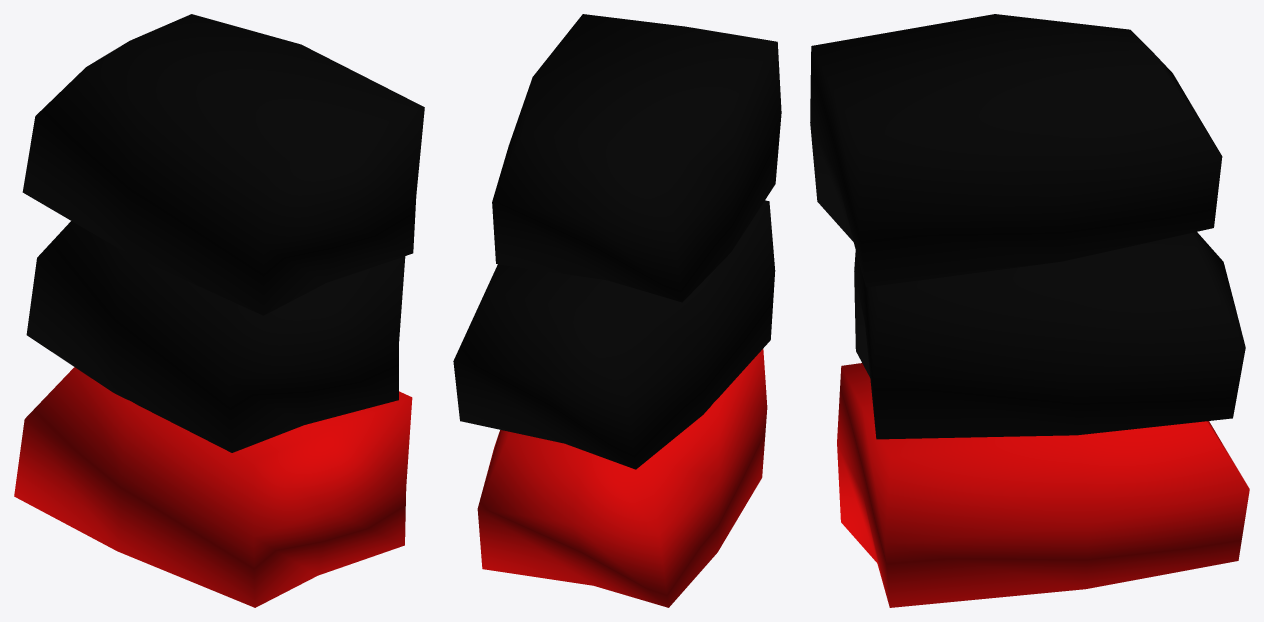
File: rubber1.fbx
3 views of the same model, side by side, from view 1: azimuth 30°, elevation 25°; view 2: azimuth 150°, elevation 25°; view 3: azimuth 270°, elevation 25° (orthographic). The views are drawn at different scales.
Visible parts, largest first — view 1: pCube40; view 2: pCube40; view 3: pCube40.
Part boxes in pixels (box(x1,y1,x2,y2)): pCube40: box(14, 14, 424, 607); pCube40: box(453, 14, 781, 607); pCube40: box(810, 14, 1249, 607).
Size of the model in its own units: 1.07 by 1.85 by 1.51.
